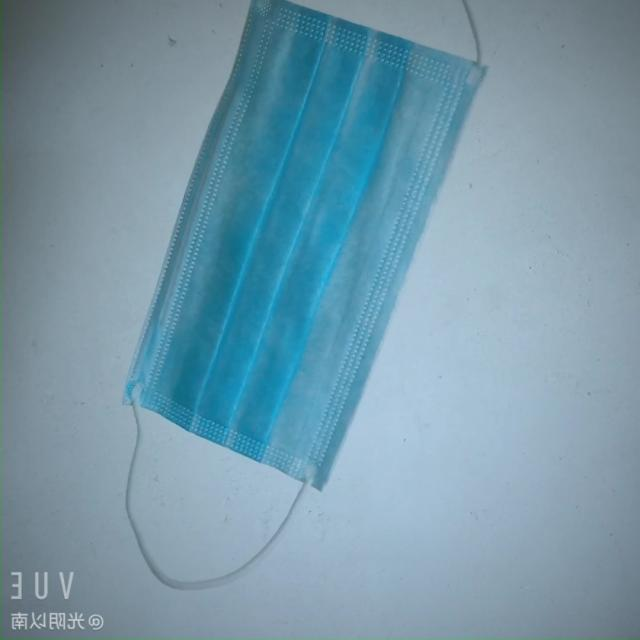face mask: (135, 0, 484, 496)
